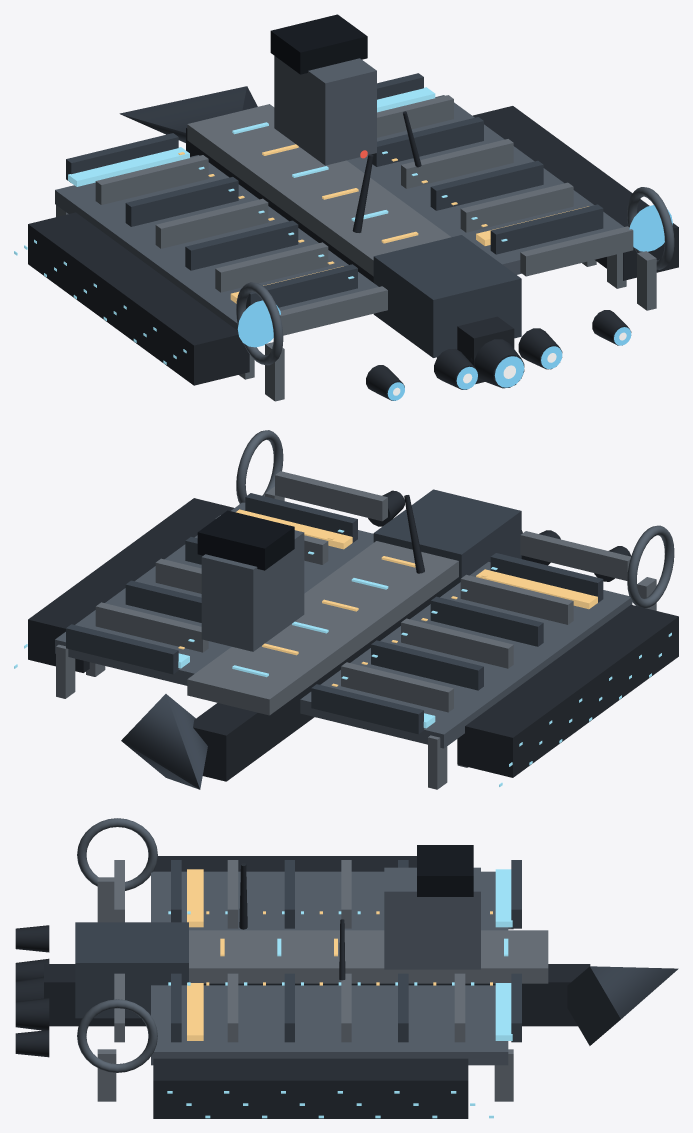
Rendered from capital-carrier.glb.
3 views of the same model, one above another, from view 1: azimuth 30°, elevation 25°; view 2: azimuth 150°, elevation 25°; view 3: azimuth 270°, elevation 25° (orthographic). The views are drawn at different scales.
Visible parts, largest first — view 1: outer flight pod -1, flight deck spine, aft reactor block, carrier wing deck -1, forward command island, carrier wing deck 1, outer flight pod 1, control bridge, carrier wedge prow, carrier deck rib 1 7, carrier deck rib -1 4, carrier deck rib 1 6 (+29 smaller); view 2: flight deck spine, outer flight pod -1, carrier wing deck -1, forward command island, outer flight pod 1, aft reactor block, carrier central keel, carrier wing deck 1, carrier wedge prow, control bridge, carrier deck rib -1 4, carrier deck rib -1 5 (+20 smaller); view 3: carrier wing deck 1, outer flight pod 1, flight deck spine, carrier wing deck -1, aft reactor block, forward command island, carrier central keel, carrier wedge prow, outer flight pod -1, control bridge, carrier jump-ring 1, carrier jump-ring -1 (+27 smaller).
Part boxes in pixels (box(x1,y1,x2,y2)): outer flight pod -1: box(28, 212, 249, 385); flight deck spine: box(187, 104, 451, 276); aft reactor block: box(373, 235, 521, 357); carrier wing deck -1: box(55, 155, 378, 330); forward command island: box(274, 56, 376, 165); carrier wing deck 1: box(347, 95, 623, 274); outer flight pod 1: box(472, 106, 678, 280); control bridge: box(270, 14, 367, 74); carrier wedge prow: box(119, 86, 257, 142); carrier deck rib 1 7: box(520, 226, 633, 276); carrier deck rib -1 4: box(185, 220, 298, 270); carrier deck rib 1 6: box(490, 204, 603, 254); flight deck spine: box(187, 541, 458, 715); outer flight pod -1: box(457, 604, 678, 777); carrier wing deck -1: box(300, 562, 632, 748); forward command island: box(201, 530, 304, 651); outer flight pod 1: box(28, 498, 233, 672); aft reactor block: box(373, 489, 521, 597); carrier central keel: box(193, 593, 437, 781); carrier wing deck 1: box(55, 502, 373, 685); carrier wedge prow: box(121, 694, 207, 789); control bridge: box(197, 510, 294, 570); carrier deck rib -1 4: box(430, 596, 543, 646); carrier deck rib -1 5: box(460, 574, 573, 624); carrier wing deck 1: box(151, 985, 508, 1065); outer flight pod 1: box(153, 1058, 468, 1118); flight deck spine: box(189, 930, 548, 983); carrier wing deck -1: box(151, 871, 508, 930); aft reactor block: box(75, 922, 188, 1018); forward command island: box(384, 867, 480, 969); carrier central keel: box(44, 964, 590, 1026); carrier wedge prow: box(567, 966, 678, 1045); outer flight pod -1: box(153, 856, 416, 871); control bridge: box(417, 845, 473, 896); carrier jump-ring 1: box(77, 999, 157, 1072); carrier jump-ring -1: box(77, 818, 157, 890).
Bounding box in the file's own units: 507 × 193 × 633.
